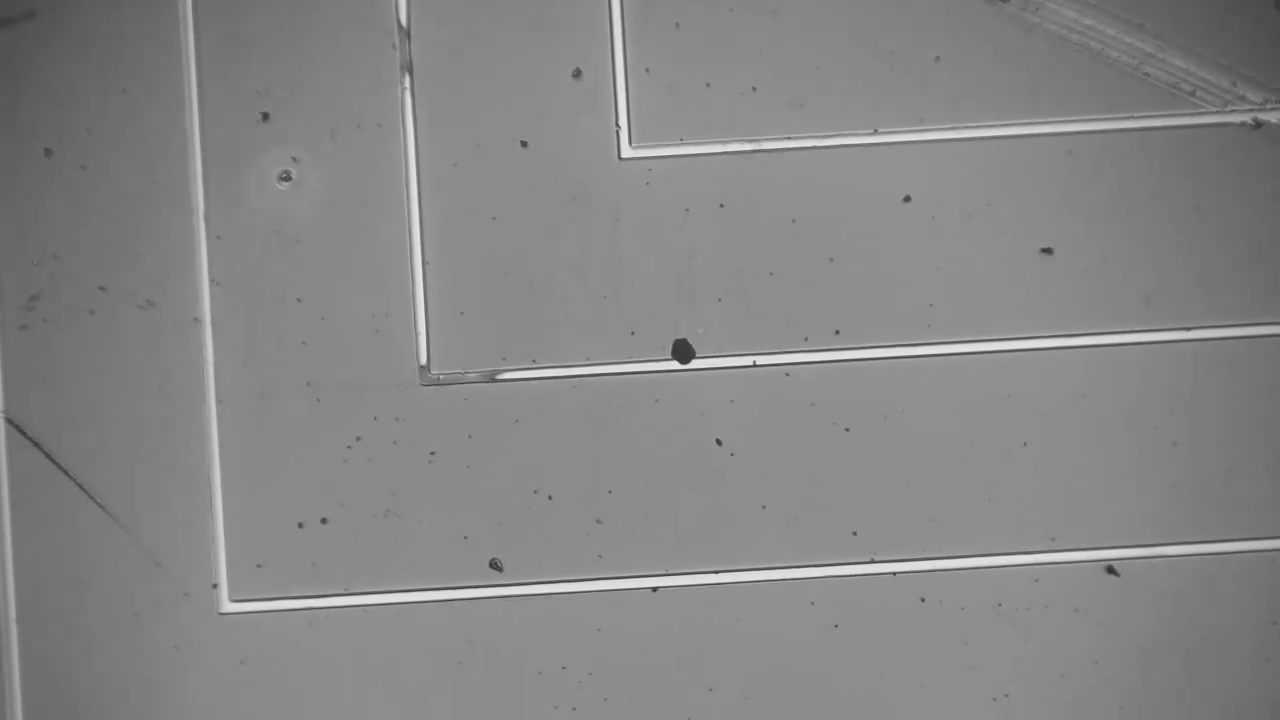gray_line: (386, 13, 424, 94), (410, 366, 510, 391), (406, 339, 442, 404)
scratch: (1000, 4, 1280, 143), (7, 424, 145, 550)
stains_enbedded: (664, 333, 703, 379)
